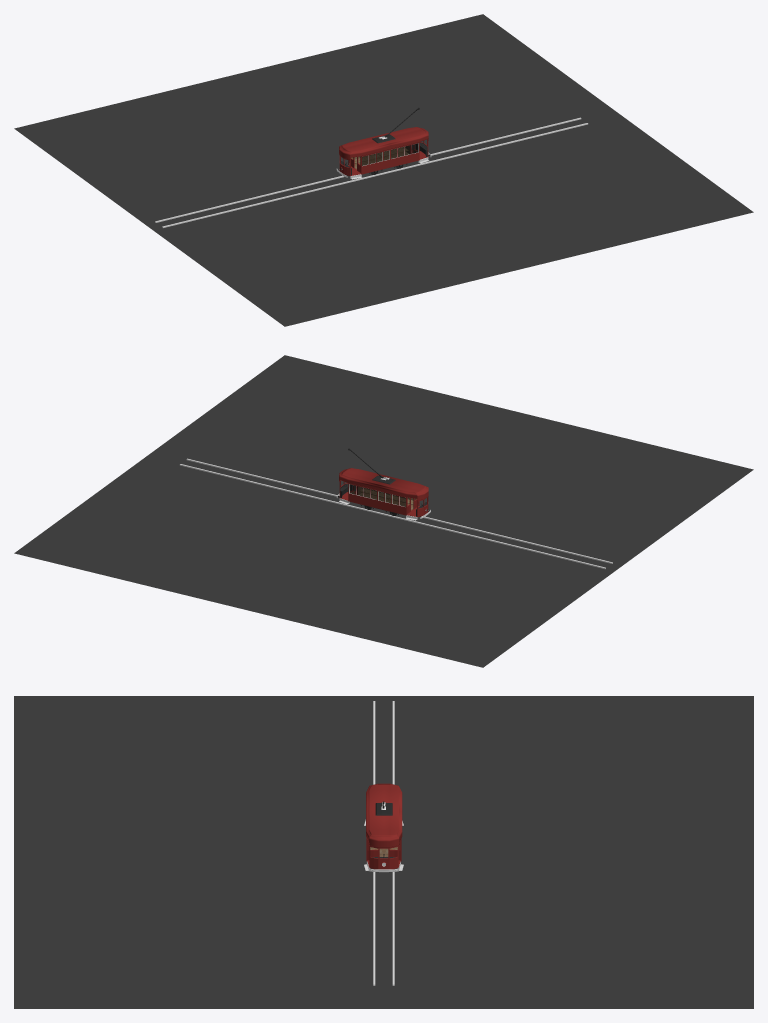
File: tram.fbx
3 renders of one model, top to bottom at view 1: azimuth 30°, elevation 25°; view 2: azimuth 150°, elevation 25°; view 3: azimuth 270°, elevation 25°, orthographic. The views are drawn at different scales.
Visible parts, largest first — view 1: Plane, body, Cube.001, Cube; view 2: Plane, body, Cube, Cube.001; view 3: Plane, body, Cube, Cube.001.
Part boxes in pixels (bbox=[...]): Plane: bbox=[14, 14, 753, 326]; body: bbox=[336, 127, 431, 179]; Cube.001: bbox=[162, 123, 588, 227]; Cube: bbox=[155, 117, 581, 222]; Plane: bbox=[14, 355, 753, 667]; body: bbox=[336, 468, 430, 520]; Cube: bbox=[179, 464, 605, 568]; Cube.001: bbox=[186, 458, 612, 563]; Plane: bbox=[14, 696, 753, 1008]; body: bbox=[364, 783, 403, 872]; Cube: bbox=[392, 701, 394, 985]; Cube.001: bbox=[373, 701, 375, 985].
Size of the model in its own units: 7251 by 808 by 7251.
